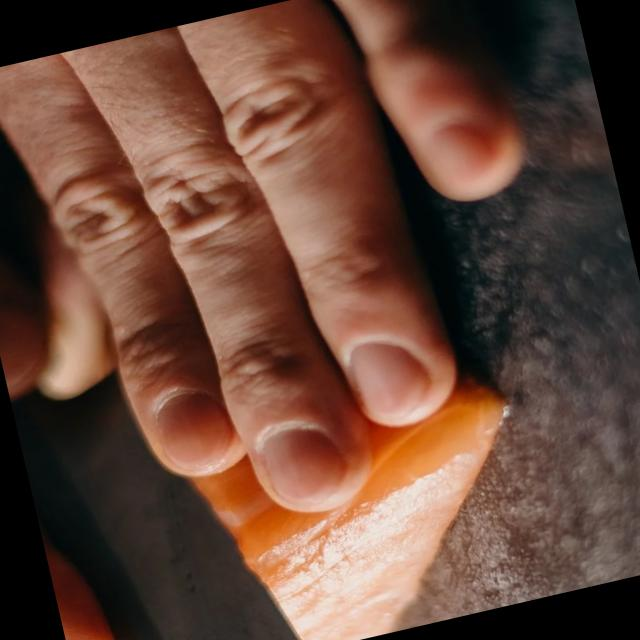Nail: (262, 428, 346, 508), (349, 341, 428, 424), (157, 392, 231, 469), (423, 118, 498, 188)
